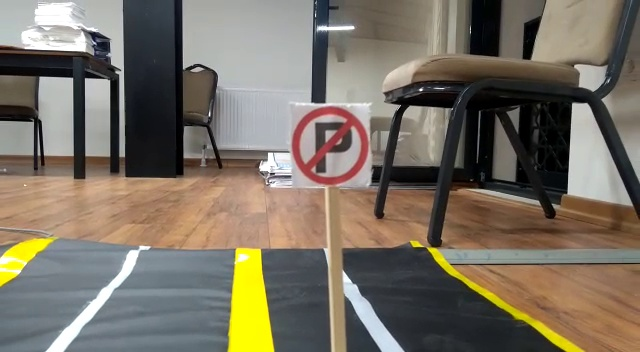park_yapilmaz: (290, 103, 373, 181)
